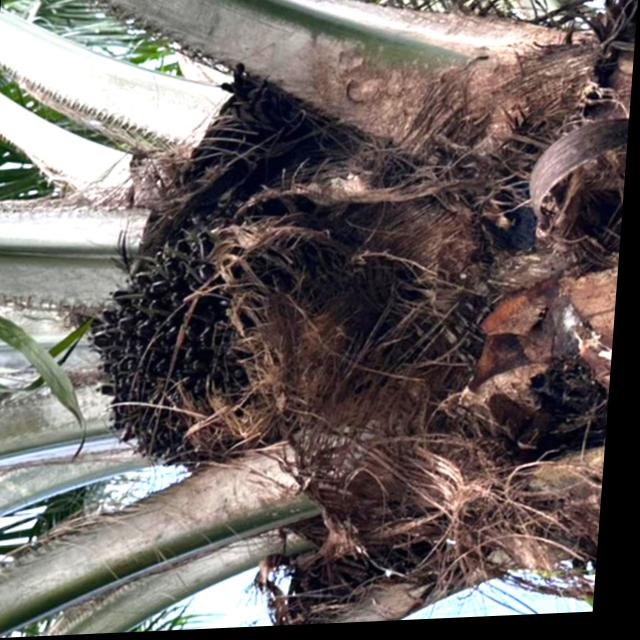almost: (83, 219, 282, 474)
